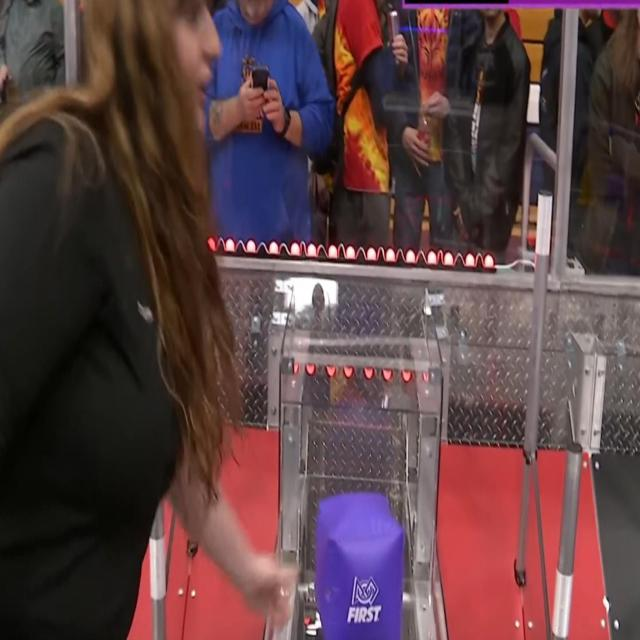frc_cube: (314, 492, 402, 640)
